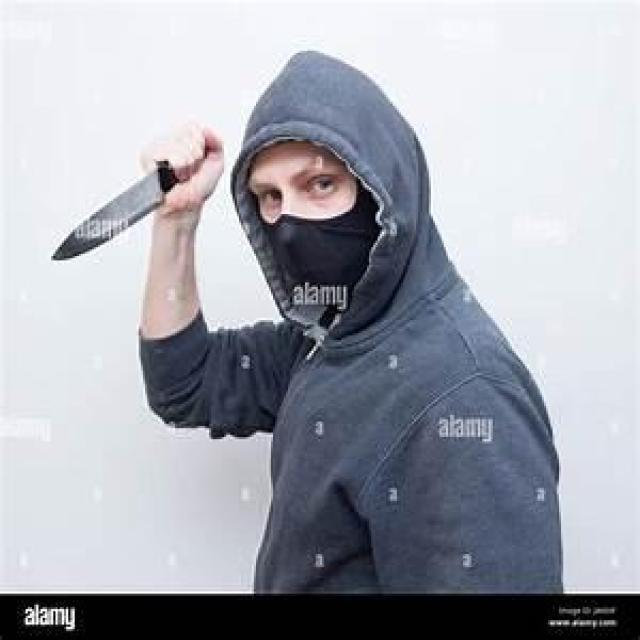Knife: (51, 113, 226, 270)
